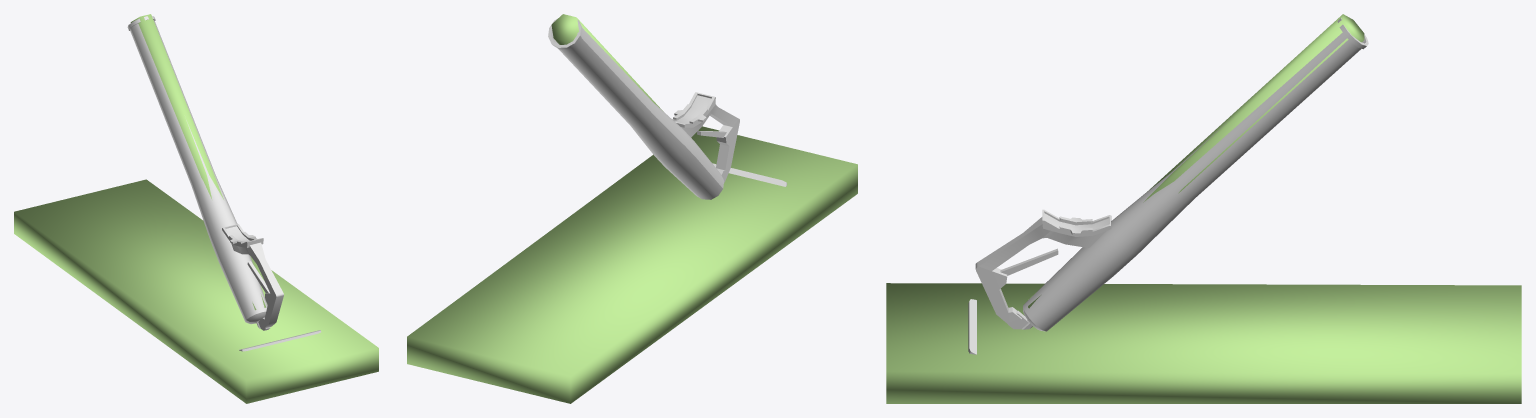
The picture shows the model from 3 angles, left to right: view 1: azimuth 30°, elevation 25°; view 2: azimuth 150°, elevation 25°; view 3: azimuth 270°, elevation 25°; orthographic projection. The views are drawn at different scales.
Visible parts, largest first — view 1: UTM_Geometry, w_cannon_LOD0; view 2: UTM_Geometry, w_cannon_LOD0, UTM_FireGeometry; view 3: UTM_Geometry, w_cannon_LOD0.
Part boxes in pixels (x1=…): UTM_Geometry: x1=14, y1=14, x2=378, y2=403; w_cannon_LOD0: x1=127, y1=16, x2=283, y2=330; UTM_Geometry: x1=407, y1=18, x2=857, y2=403; w_cannon_LOD0: x1=548, y1=19, x2=739, y2=199; UTM_FireGeometry: x1=551, y1=14, x2=578, y2=44; UTM_Geometry: x1=886, y1=14, x2=1521, y2=403; w_cannon_LOD0: x1=975, y1=18, x2=1368, y2=331.
Bounding box in the file's own units: 40 × 73.5 × 122.
